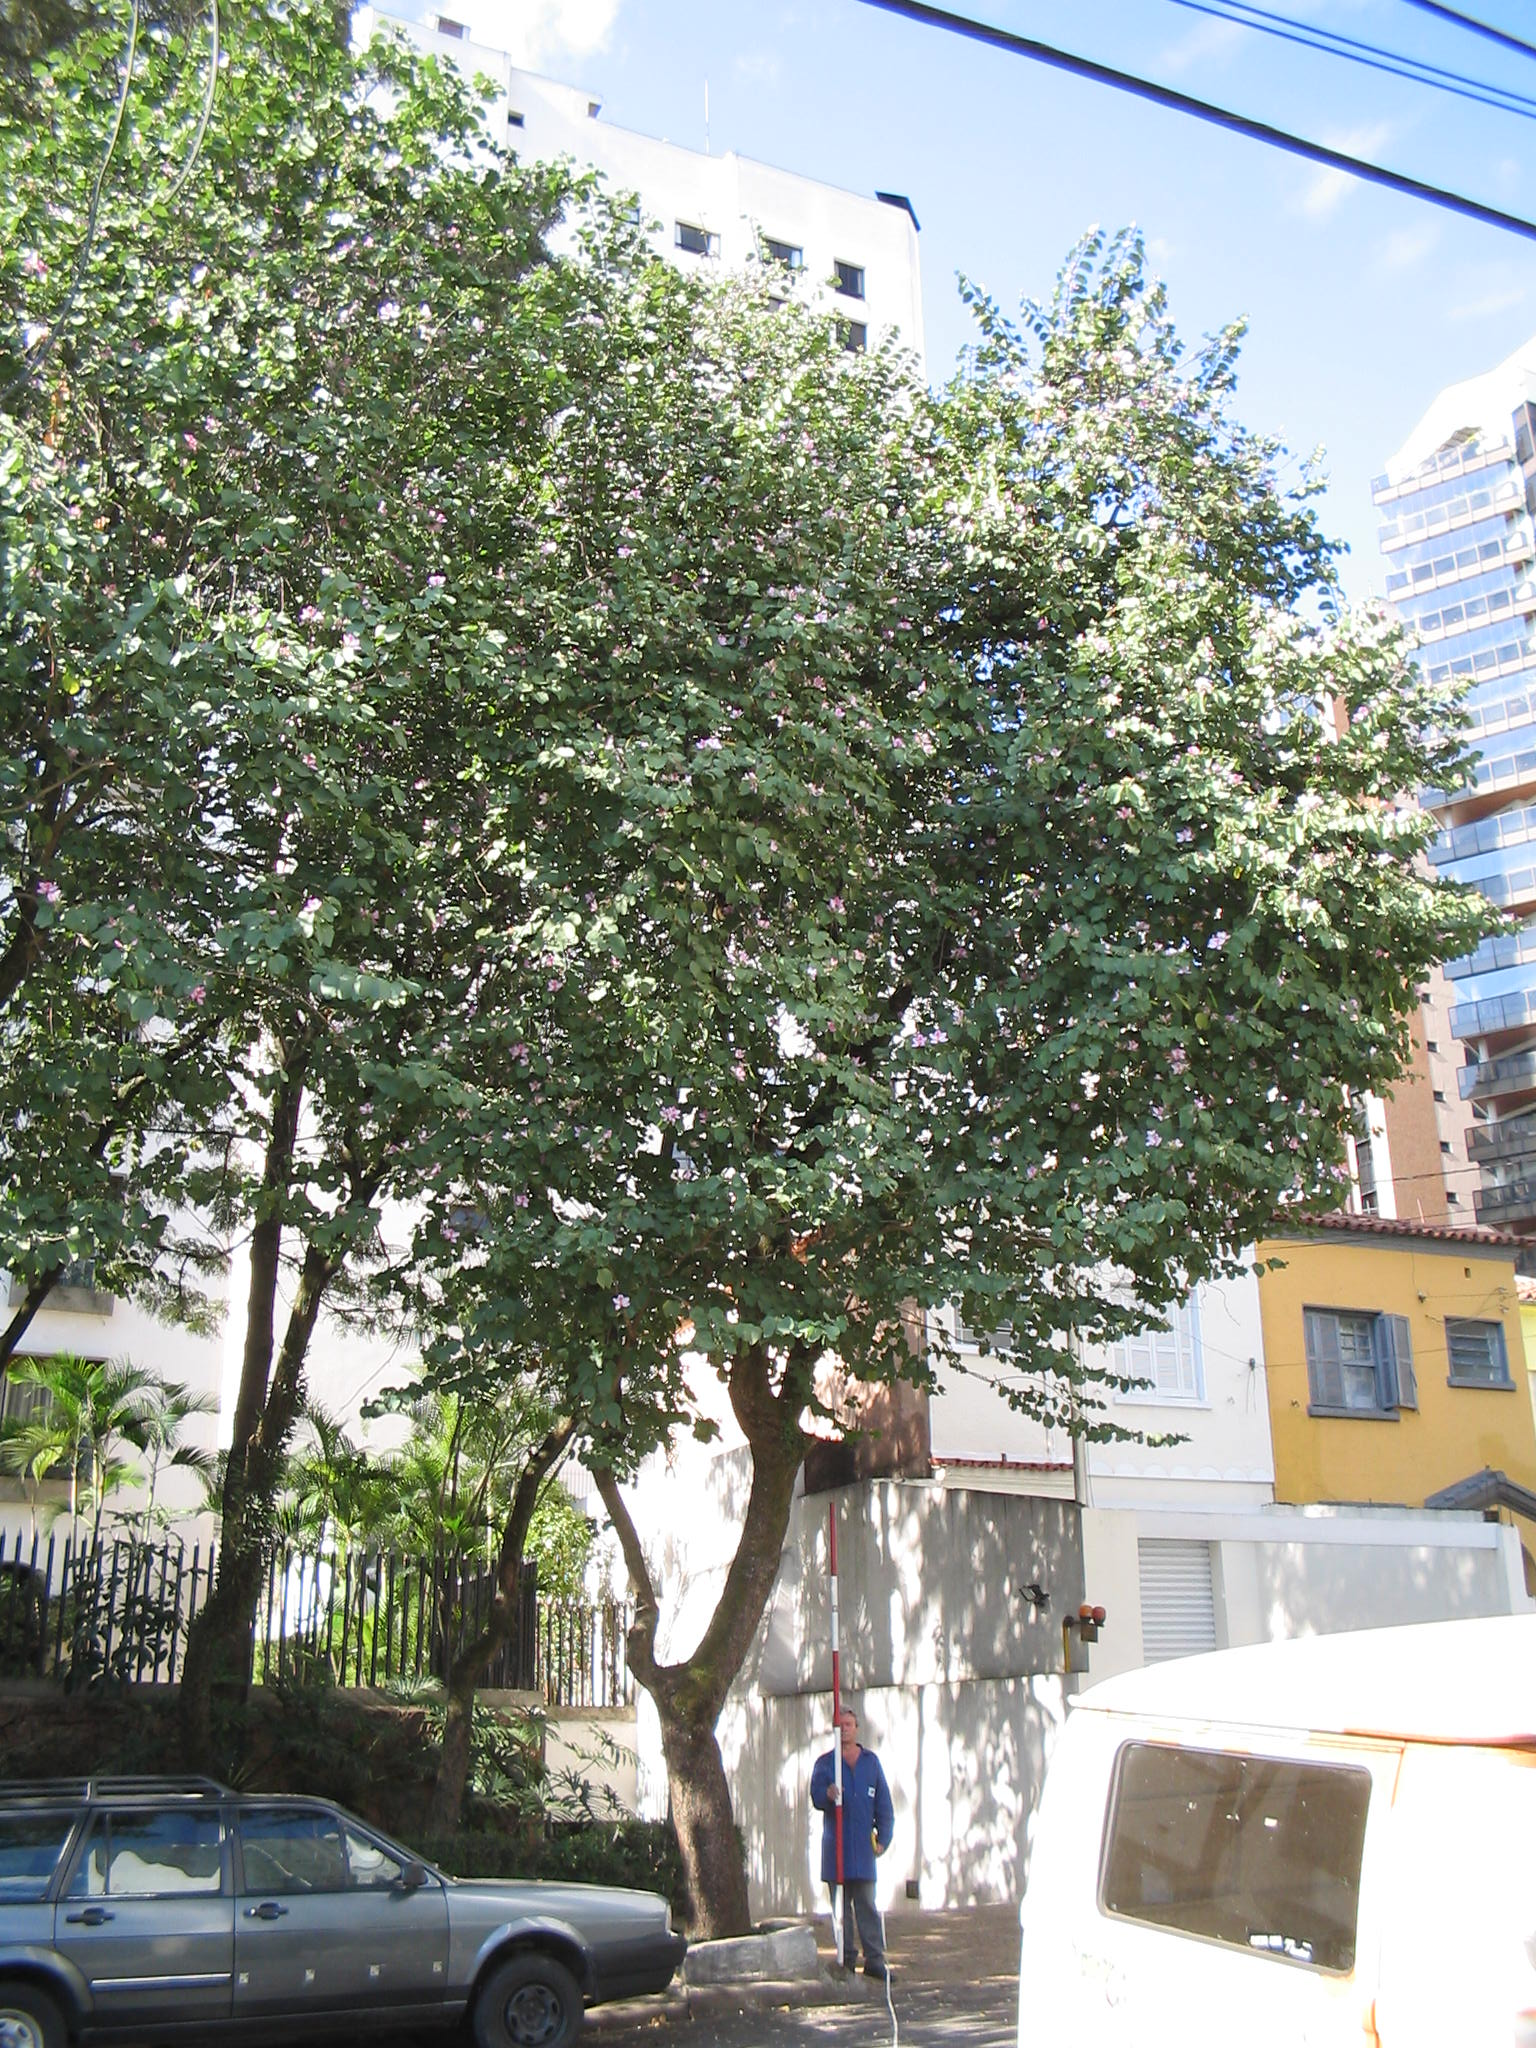crown: (273, 240, 1505, 1487)
stem: (611, 1725, 766, 1940)
stick: (812, 1503, 862, 1983)
tree: (266, 234, 1521, 1996)
